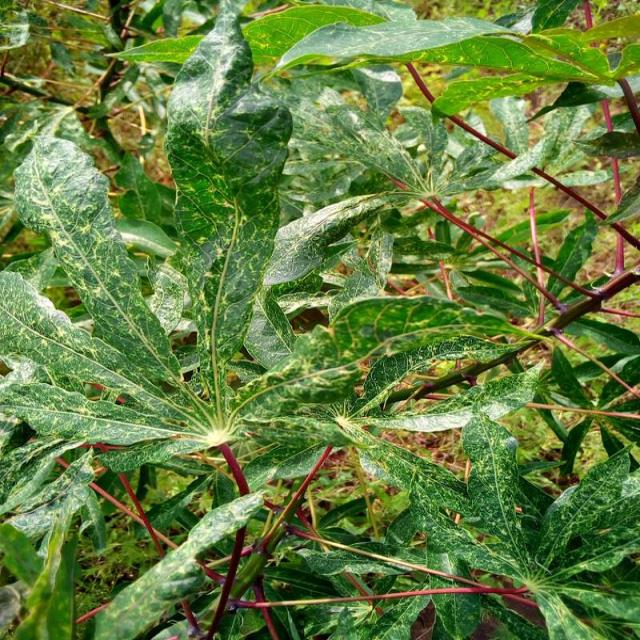cassava leaf: (0, 1, 638, 638), (162, 1, 293, 365), (11, 134, 182, 392), (92, 487, 265, 638)
